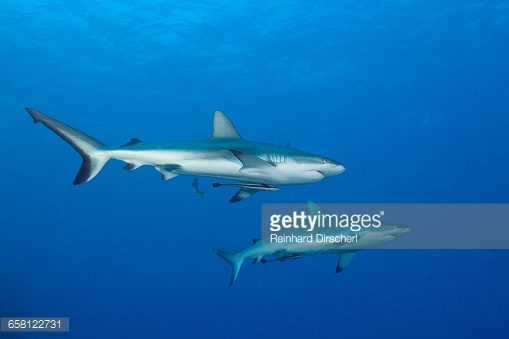Carcharhinus_amblyrhynchos: (23, 104, 357, 205), (215, 205, 414, 287)
